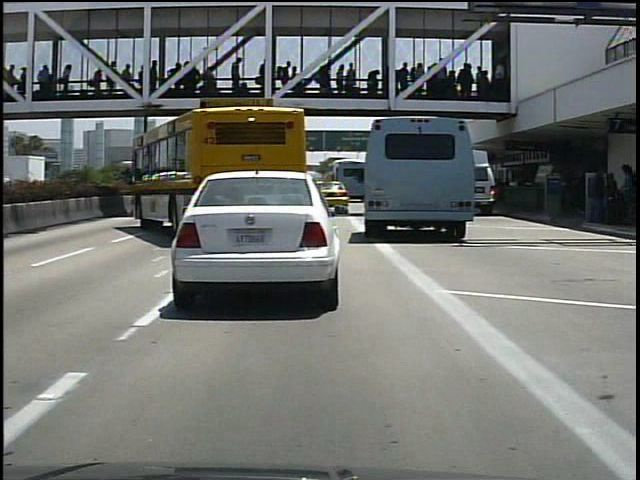person: (590, 162, 621, 223), (612, 160, 638, 226)
